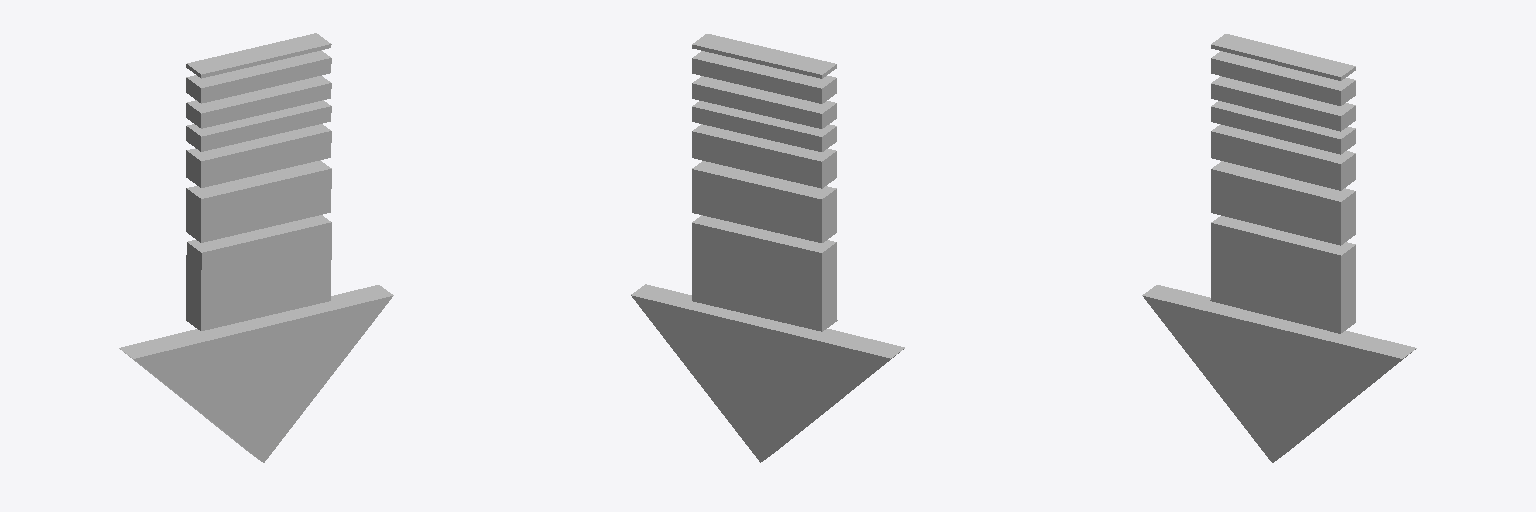
The model's file is arrow.obj.
3 views of the same model, side by side, from view 1: azimuth 30°, elevation 25°; view 2: azimuth 150°, elevation 25°; view 3: azimuth 330°, elevation 25° (orthographic).
Visible parts, largest first — view 1: Box1, Box, Box2, Box3, Box6, Box5, Box4, Box7; view 2: Box1, Box, Box2, Box3, Box5, Box6, Box4, Box7; view 3: Box1, Box, Box2, Box3, Box6, Box5, Box4, Box7.
Part boxes in pixels (left/top/right/bottom): Box1: left=119, top=285, right=393, bottom=462; Box: left=186, top=215, right=331, bottom=330; Box2: left=186, top=160, right=331, bottom=242; Box3: left=186, top=124, right=331, bottom=187; Box6: left=186, top=50, right=331, bottom=103; Box5: left=186, top=76, right=331, bottom=128; Box4: left=186, top=100, right=331, bottom=151; Box7: left=186, top=33, right=331, bottom=78; Box1: left=631, top=284, right=904, bottom=462; Box: left=692, top=215, right=837, bottom=331; Box2: left=692, top=161, right=836, bottom=242; Box3: left=692, top=124, right=836, bottom=188; Box5: left=692, top=76, right=836, bottom=128; Box6: left=692, top=51, right=836, bottom=103; Box4: left=692, top=101, right=836, bottom=151; Box7: left=692, top=34, right=836, bottom=78; Box1: left=1142, top=285, right=1416, bottom=462; Box: left=1210, top=216, right=1355, bottom=333; Box2: left=1211, top=161, right=1355, bottom=245; Box3: left=1211, top=124, right=1355, bottom=190; Box6: left=1211, top=51, right=1355, bottom=105; Box5: left=1211, top=76, right=1355, bottom=131; Box4: left=1211, top=101, right=1355, bottom=154; Box7: left=1211, top=34, right=1355, bottom=80.
Size of the model in its own units: 1 by 1.48 by 0.1035.